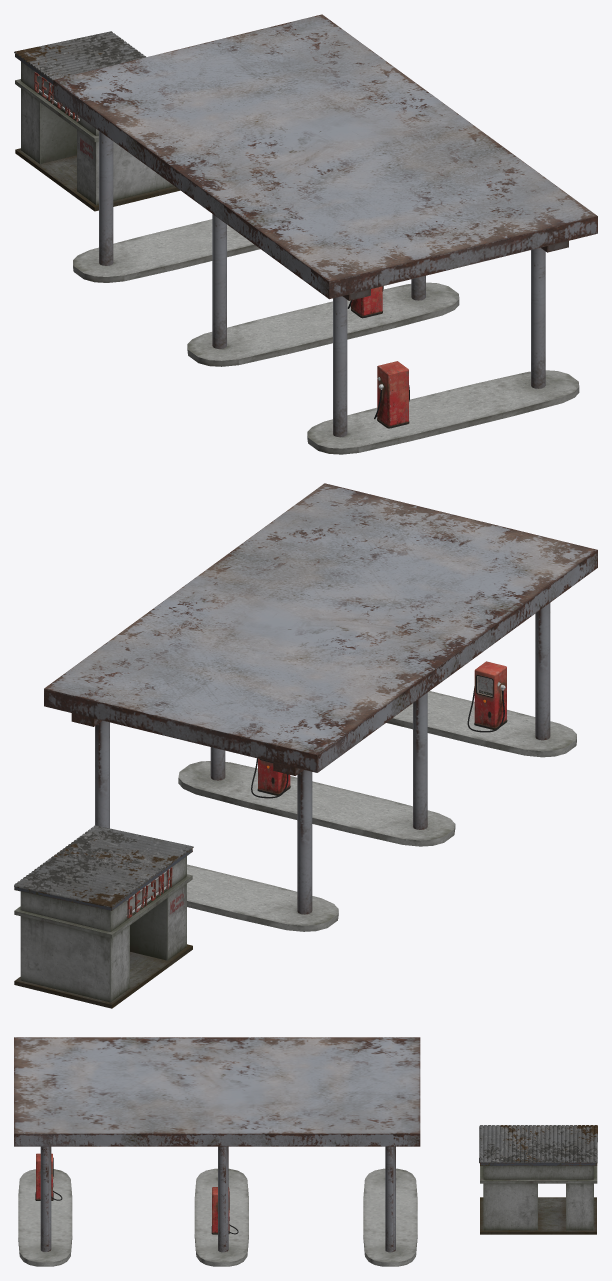
File: gas_station.glb
3 renders of one model, top to bottom at view 1: azimuth 30°, elevation 25°; view 2: azimuth 150°, elevation 25°; view 3: azimuth 270°, elevation 25°, orthographic. The views are drawn at different scales.
Parts seen in each view (by area): view 1: duplicated_06, gas_station:maUniqueName_1001, polySurface19; view 2: duplicated_06, gas_station:maUniqueName_1001, polySurface19; view 3: duplicated_06, gas_station:maUniqueName_1001, polySurface19.
Boxes of the visible parts, x1,y1,x2,y2 form: duplicated_06: [53, 14, 597, 454]; gas_station:maUniqueName_1001: [14, 31, 180, 211]; polySurface19: [347, 286, 409, 428]; duplicated_06: [44, 483, 597, 931]; gas_station:maUniqueName_1001: [14, 825, 193, 1008]; polySurface19: [251, 661, 507, 798]; duplicated_06: [14, 1037, 420, 1266]; gas_station:maUniqueName_1001: [479, 1125, 597, 1234]; polySurface19: [35, 1153, 238, 1234].
Size of the model in its own units: 41.73 by 27.03 by 107.
5 materials, 4 textured.
